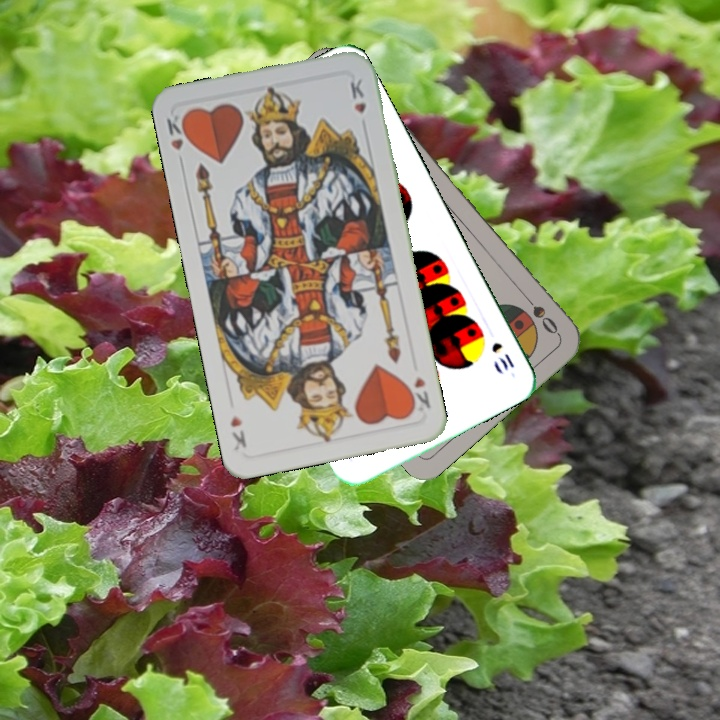HK: (163, 108, 193, 169), (404, 372, 433, 415)
S10: (487, 338, 517, 373)
SO: (518, 288, 561, 337)
